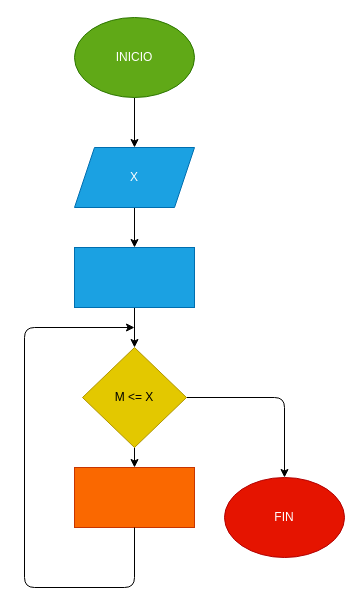
This 362x613 diagram has some shape labels left out. Each missing label, with the box of its shape:
M = 1: (74, 246, 194, 308)
Z = 5 * M print( Z , M ) M = M + 1: (74, 466, 194, 528)
